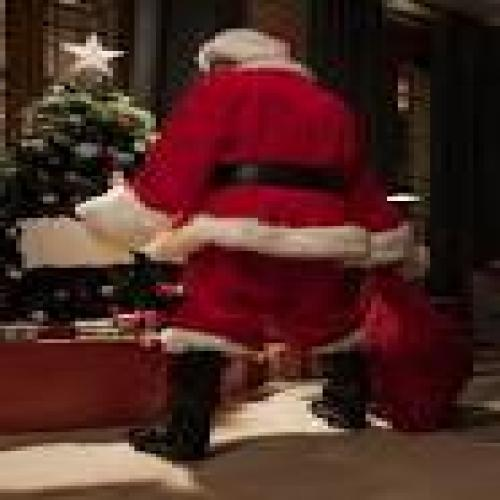Santa: (75, 24, 411, 466)
